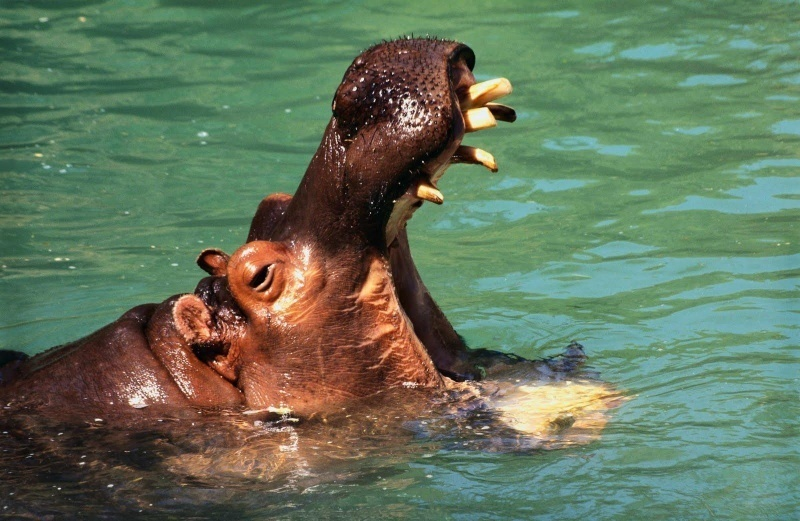hipopotamo: (2, 16, 650, 487)
